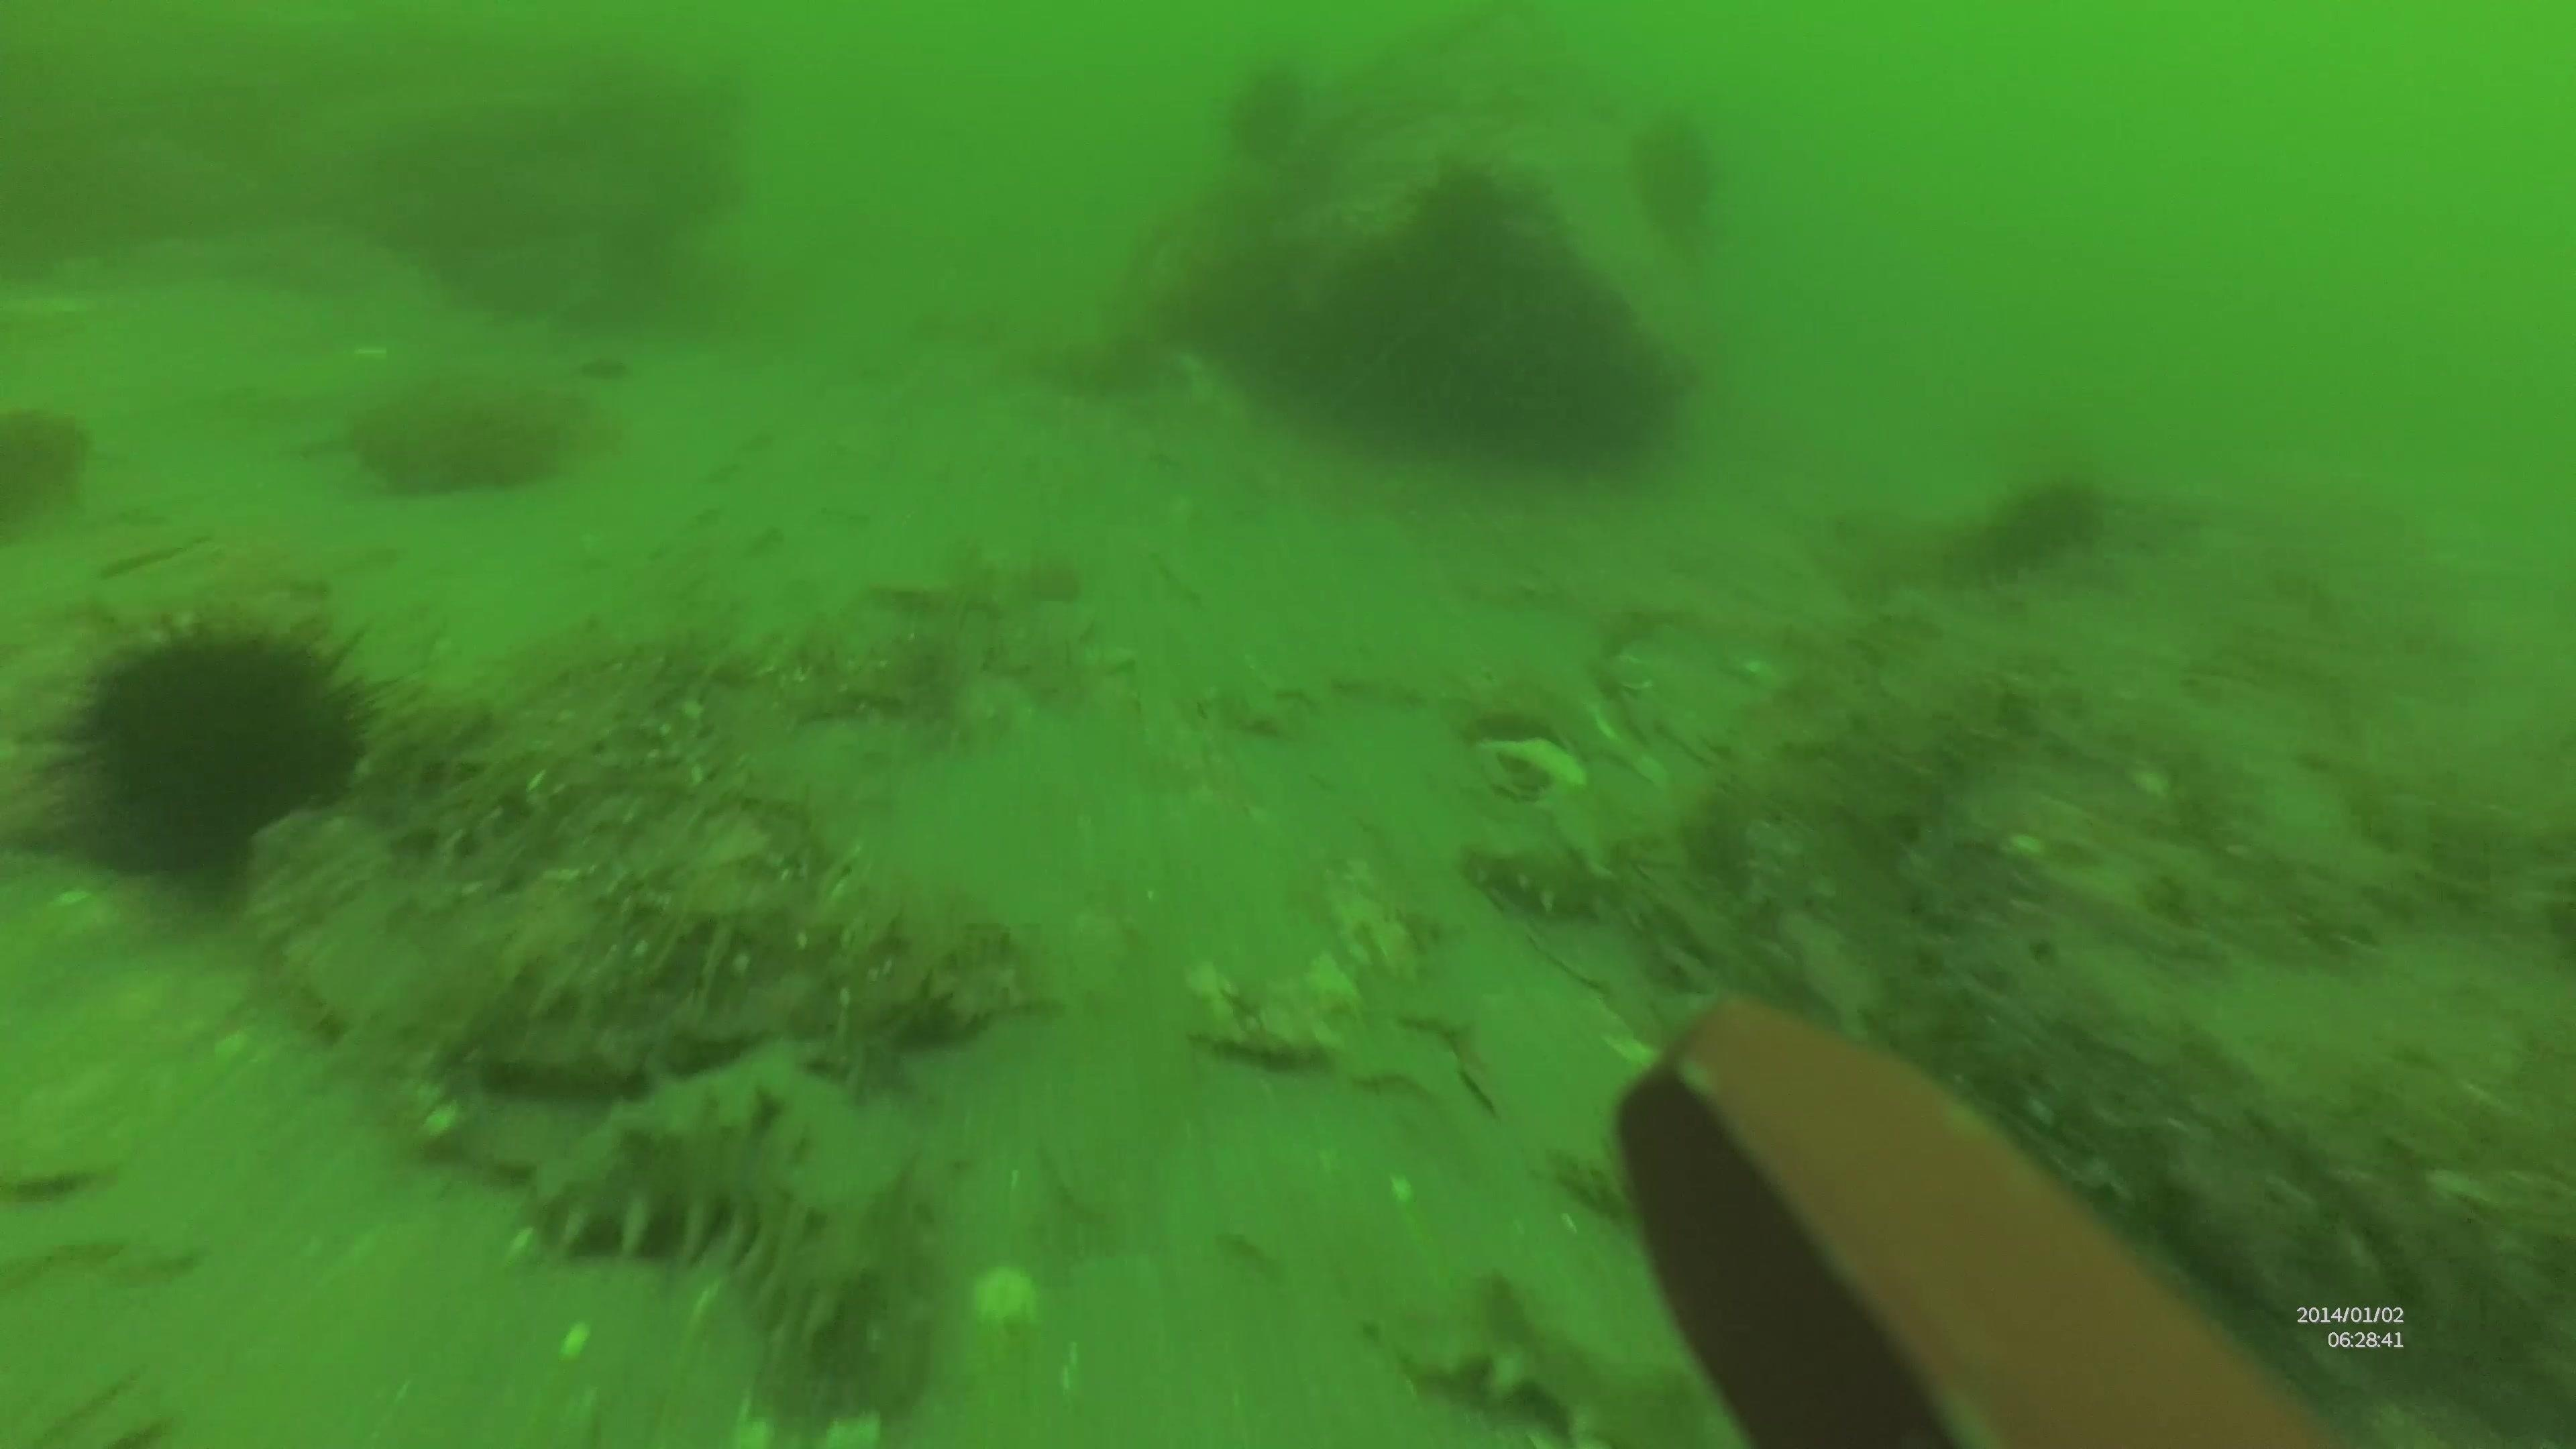echinus: (35, 594, 389, 897), (1960, 467, 2111, 586), (1621, 108, 1730, 251), (1215, 67, 1299, 156)
holothurian: (522, 1049, 939, 1398), (1387, 1261, 1736, 1444), (1456, 800, 1684, 931)
